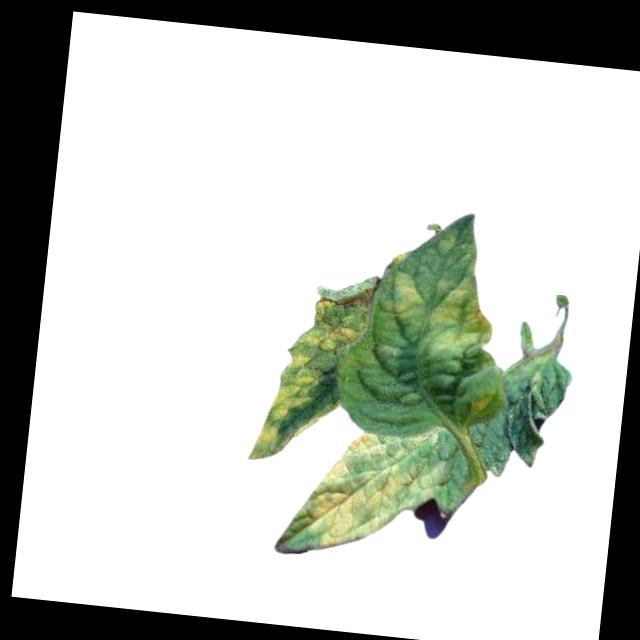Leaf_Mold: (246, 268, 375, 472), (282, 410, 443, 562), (423, 271, 499, 361), (377, 267, 428, 332)
